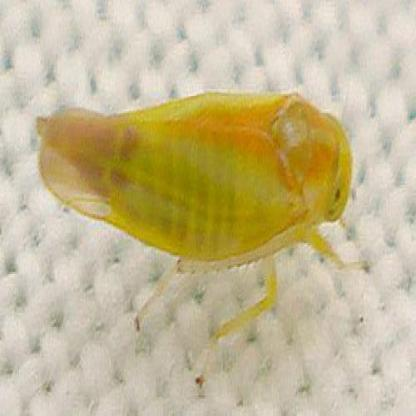green-leafhopper: (36, 88, 349, 273)
